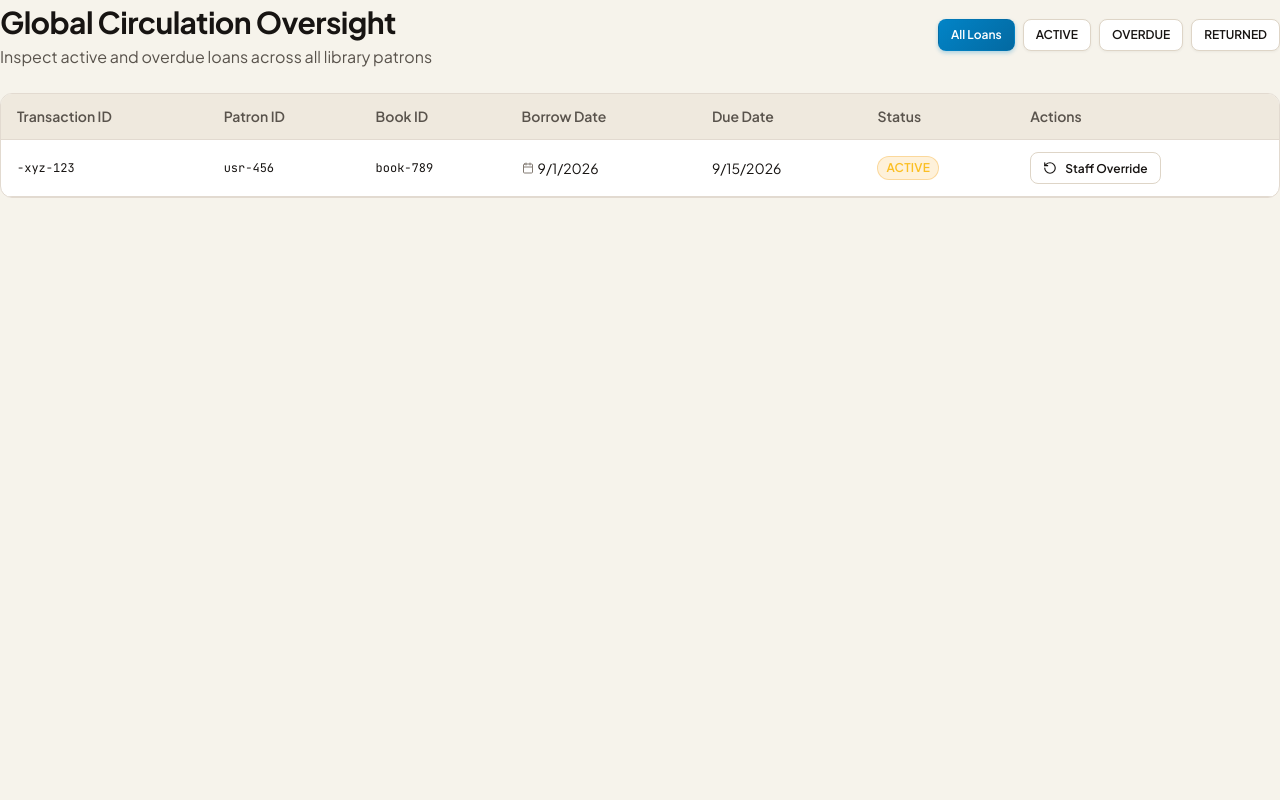
Administrative Console Features › renders global circulation oversight roster and opens staff override modal
Expected: the text "usr-456" is shown, [208,140,360,196]
Expected: the text "book-789" is shown, [360,140,506,196]
Click the button "Staff Override" at (1095, 168), box [1030,152,1161,184]
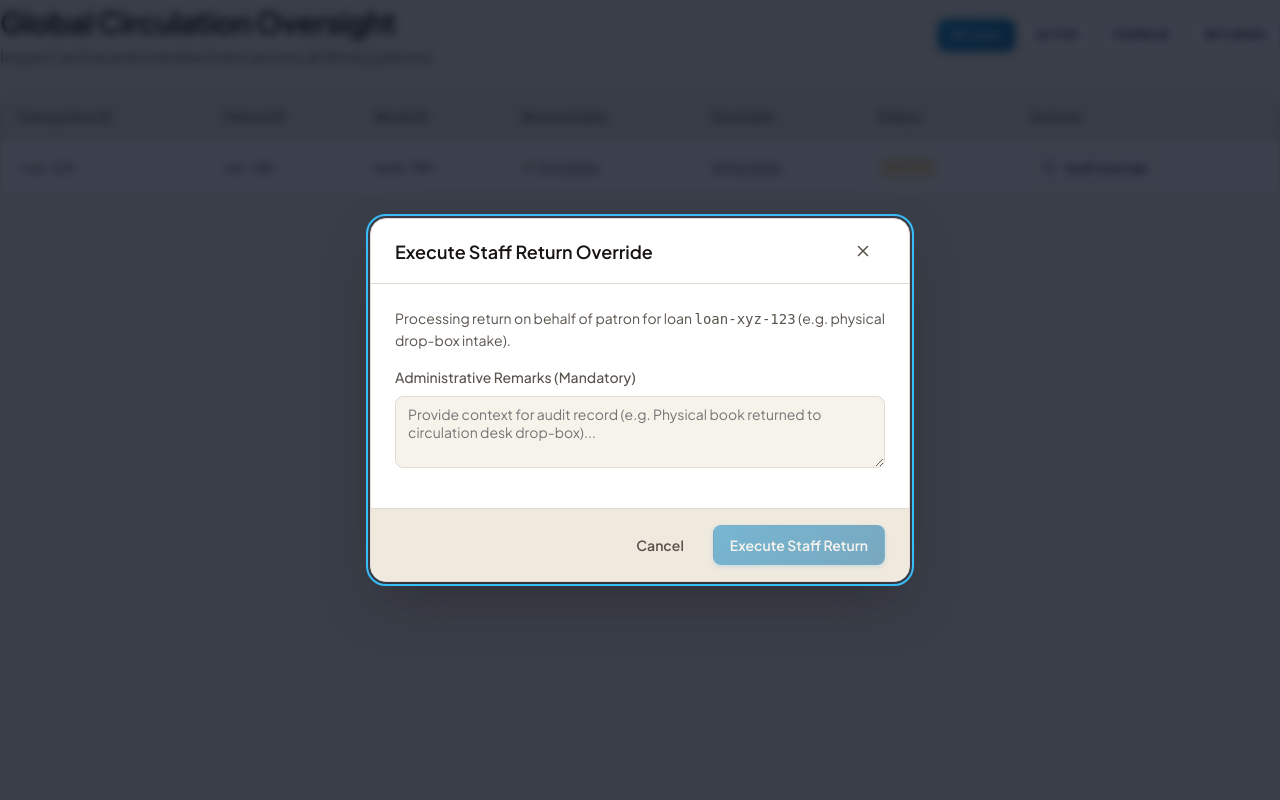
Now the heading "Execute Staff Return Override" is shown, box [395,238,653,264]
Now the button "Execute Staff Return" is shown, box [713,525,885,565]
